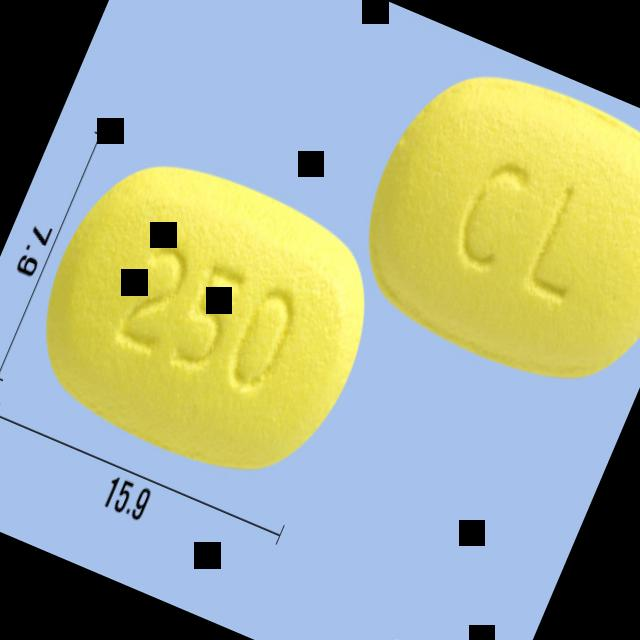Bydoxy: (11, 130, 402, 502), (332, 39, 640, 415)
